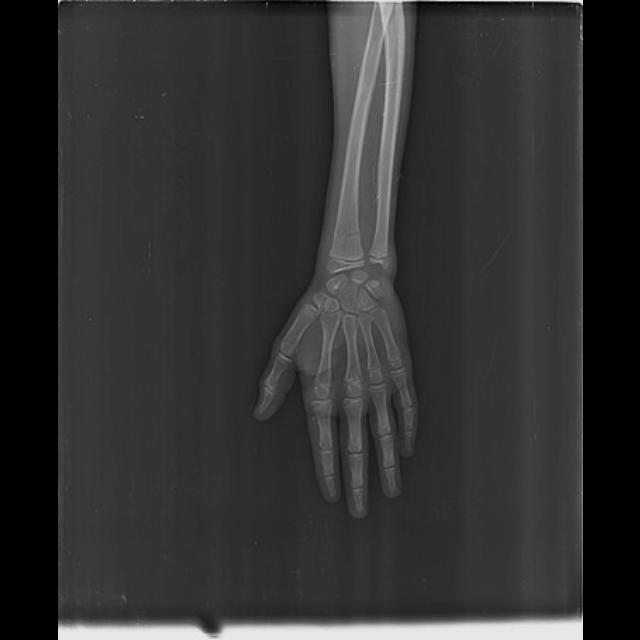Fracture: (329, 222, 361, 241)
